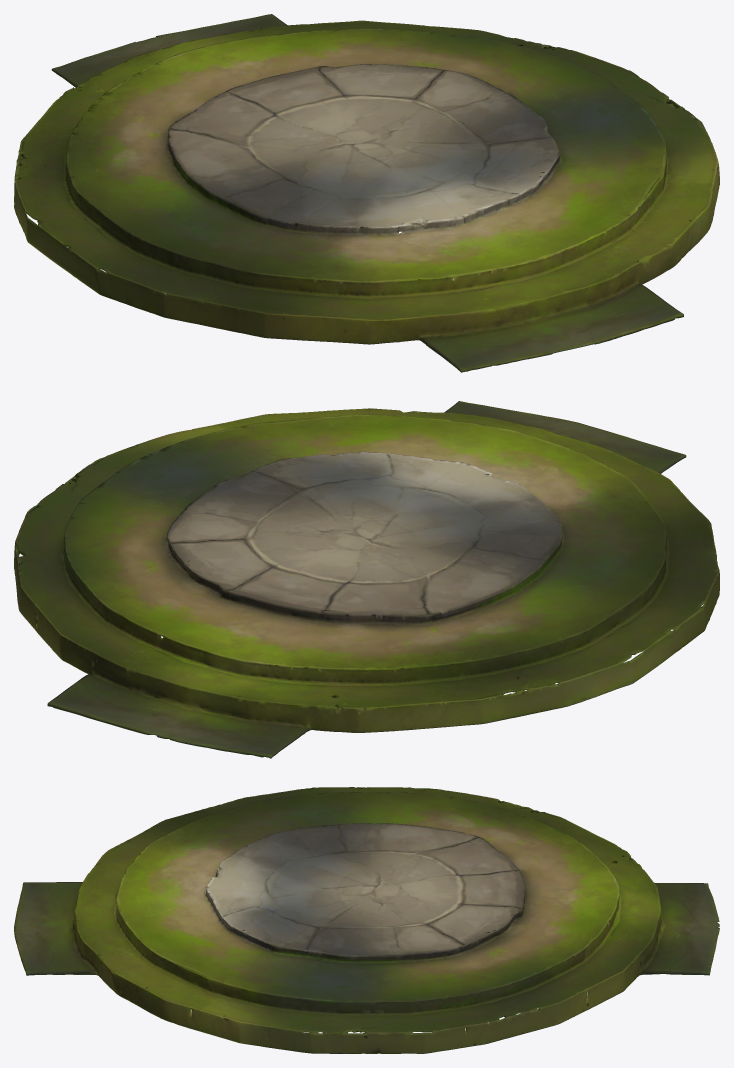
The model's file is Mystic_Stone_Platform_0722222847_texture.fbx.
The picture shows the model from 3 angles, top to bottom: view 1: azimuth 30°, elevation 25°; view 2: azimuth 150°, elevation 25°; view 3: azimuth 270°, elevation 25°; orthographic projection. The views are drawn at different scales.
Visible parts, largest first — view 1: Mesh_0; view 2: Mesh_0; view 3: Mesh_0.
Boxes of the visible parts, x1,y1,x2,y2 form: Mesh_0: [14, 14, 719, 372]; Mesh_0: [14, 401, 719, 758]; Mesh_0: [14, 787, 719, 1053].
Bounding box in the file's own units: 165 × 12.94 × 200.
Materials: 1 (1 with a texture image).
